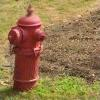a fire hydrant: (11, 12, 45, 86)
